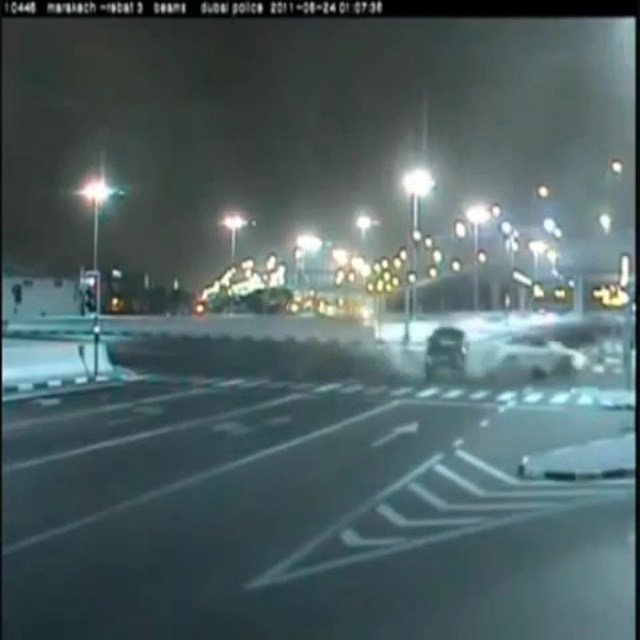acc: (403, 304, 596, 391)
